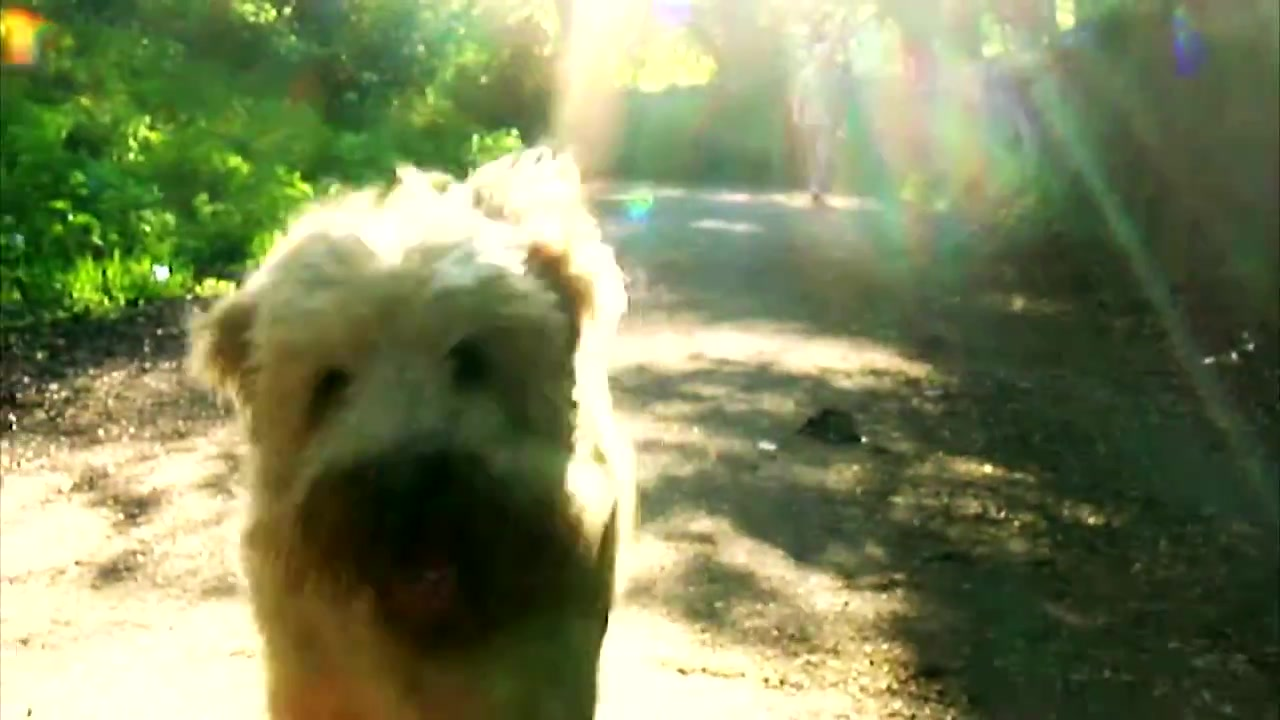dog: (190, 136, 645, 720)
